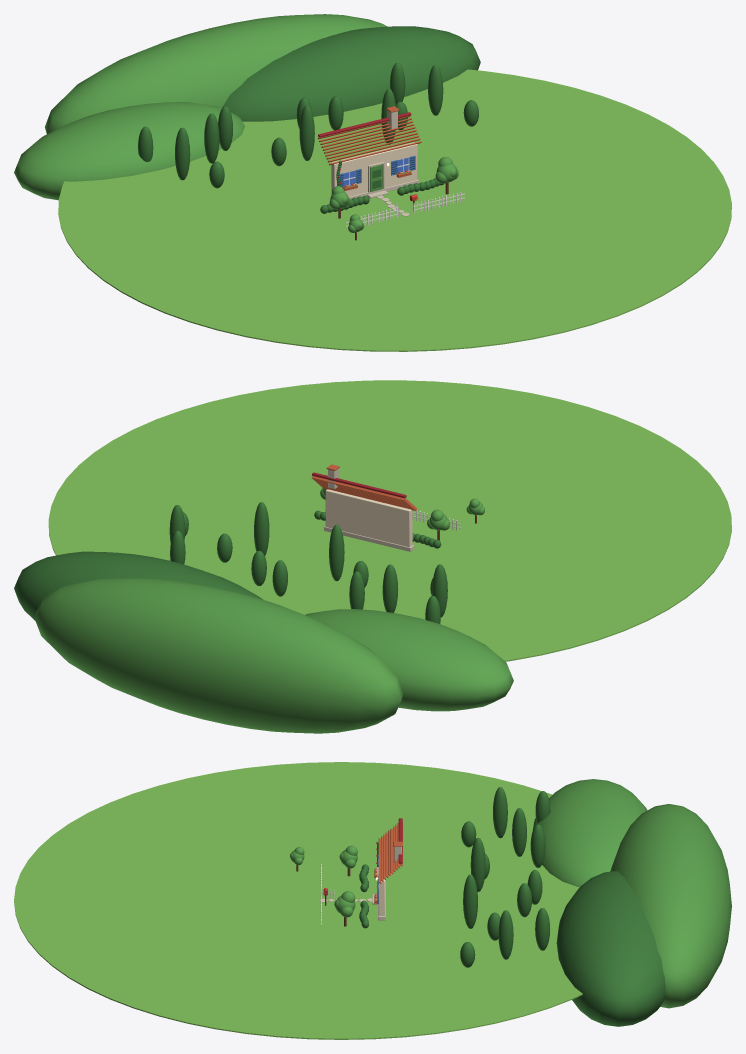
Rendered from intro-exterior.glb.
The picture shows the model from 3 angles, top to bottom: view 1: azimuth 30°, elevation 25°; view 2: azimuth 150°, elevation 25°; view 3: azimuth 270°, elevation 25°; orthographic projection. The views are drawn at different scales.
Parts seen in each view (by area): view 1: lawn, hill 2, hill 1, hill 0, cottage wall, poplar 6, poplar 1, poplar 3, poplar 12, poplar 4; view 2: lawn, hill 2, hill 0, hill 1, cottage wall, poplar 6, poplar 9, poplar 3, poplar 1; view 3: lawn, hill 2, hill 1, hill 0, poplar 9, poplar 1, poplar 6, poplar 12, poplar 3, poplar 4, poplar 11.
Part boxes in pixels (box(x1,y1,x2,y2)): lawn: box(58, 69, 731, 351); hill 2: box(45, 14, 387, 133); hill 1: box(222, 26, 480, 121); hill 0: box(14, 102, 244, 200); cottage wall: box(331, 142, 417, 196); poplar 6: box(299, 105, 314, 160); poplar 1: box(175, 127, 190, 180); poplar 3: box(204, 113, 219, 163); poplar 12: box(428, 65, 443, 115); poplar 4: box(218, 106, 233, 150); lawn: box(48, 380, 731, 661); hill 2: box(35, 578, 403, 733); hill 0: box(305, 609, 513, 711); hill 1: box(14, 551, 262, 620); cottage wall: box(325, 489, 412, 547); poplar 6: box(329, 524, 344, 581); poplar 9: box(254, 502, 269, 555); poplar 3: box(382, 564, 398, 612); poplar 1: box(432, 564, 447, 617); lawn: box(14, 762, 582, 1039); hill 2: box(610, 804, 731, 1008); hill 1: box(556, 871, 665, 1026); hill 0: box(532, 779, 647, 886); poplar 9: box(463, 874, 477, 928); poplar 1: box(493, 787, 507, 838); poplar 6: box(470, 837, 485, 891); poplar 12: box(498, 910, 513, 959); poplar 3: box(512, 808, 526, 856); poplar 4: box(530, 824, 545, 867); poplar 11: box(535, 908, 550, 950).
Size of the model in its own units: 52 by 11.6 by 57.
